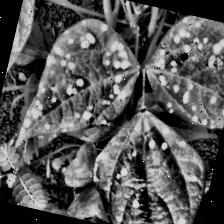Bean Rust: (16, 3, 150, 164), (84, 112, 211, 224), (139, 9, 224, 133), (0, 0, 43, 112)
